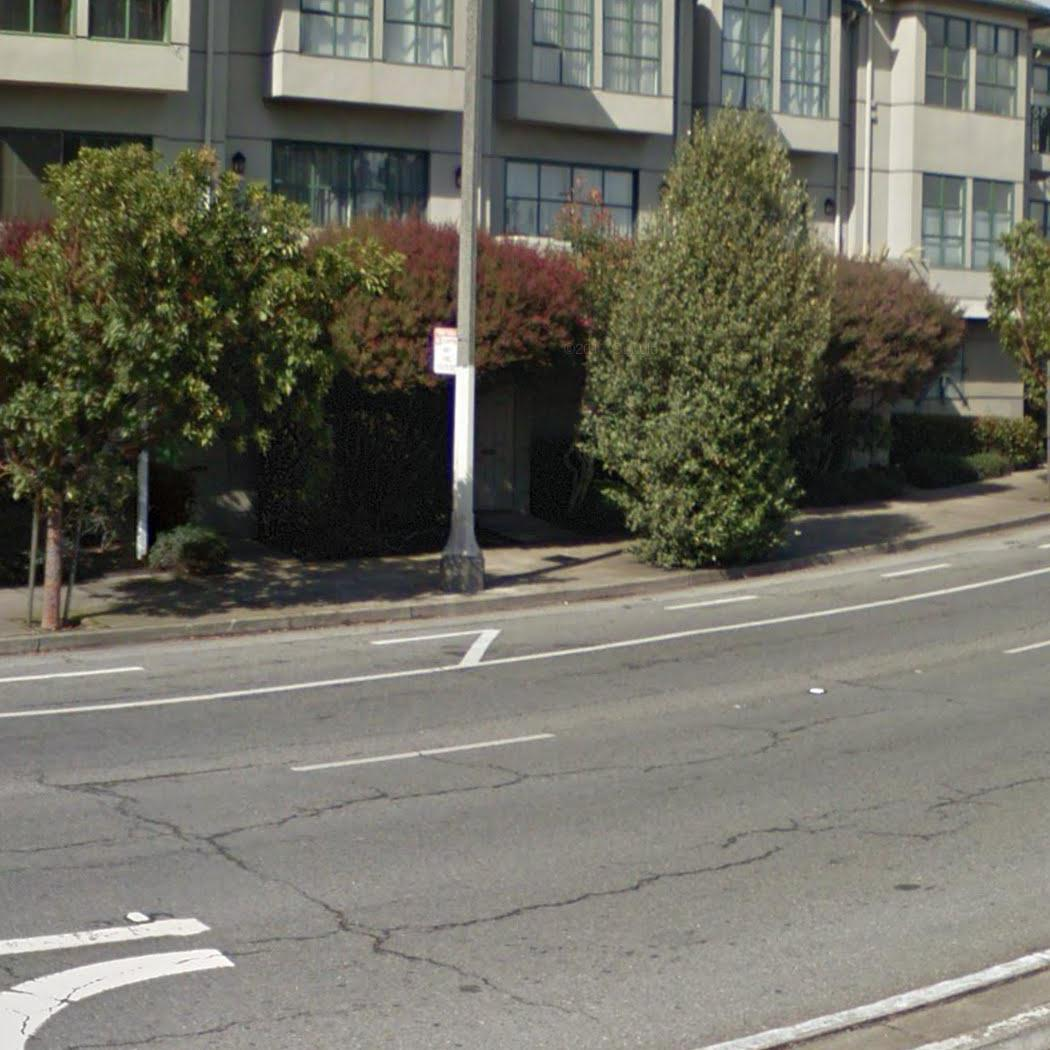No Parking: (432, 326, 460, 376)
